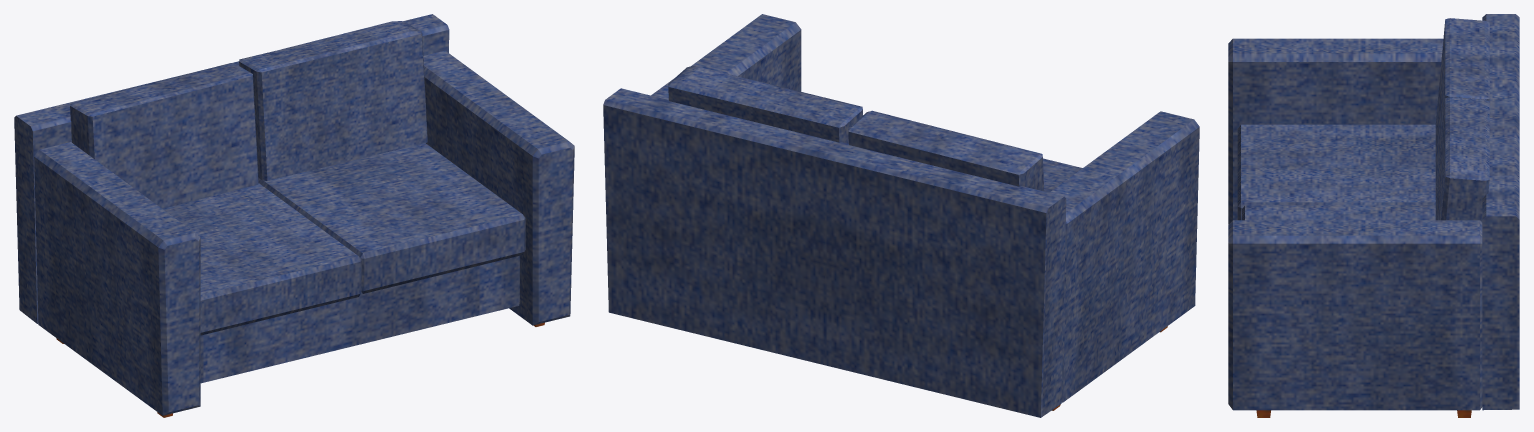
The model's file is couch_blue.obj.
The picture shows the model from 3 angles, left to right: view 1: azimuth 30°, elevation 25°; view 2: azimuth 150°, elevation 25°; view 3: azimuth 270°, elevation 25°; orthographic projection. The views are drawn at different scales.
Parts seen in each view (by area): view 1: couch_blue; view 2: couch_blue; view 3: couch_blue.
Boxes of the visible parts, left/top/right/bottom form: couch_blue: left=14, top=14, right=574, bottom=417; couch_blue: left=603, top=14, right=1199, bottom=417; couch_blue: left=1228, top=14, right=1519, bottom=417.
Bounding box in the file's own units: 2.24 × 1.19 × 1.36.
